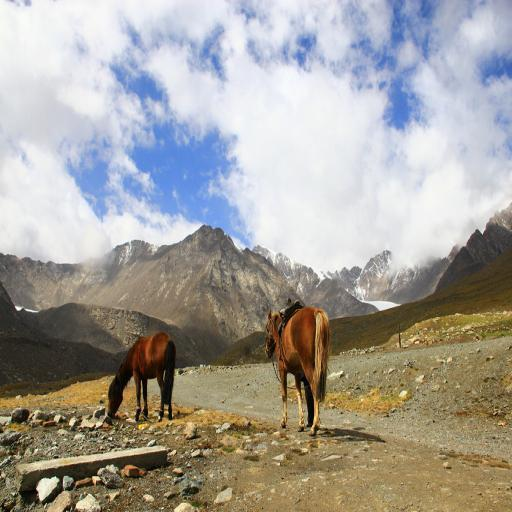horse: (264, 307, 330, 437), (106, 328, 180, 428)
